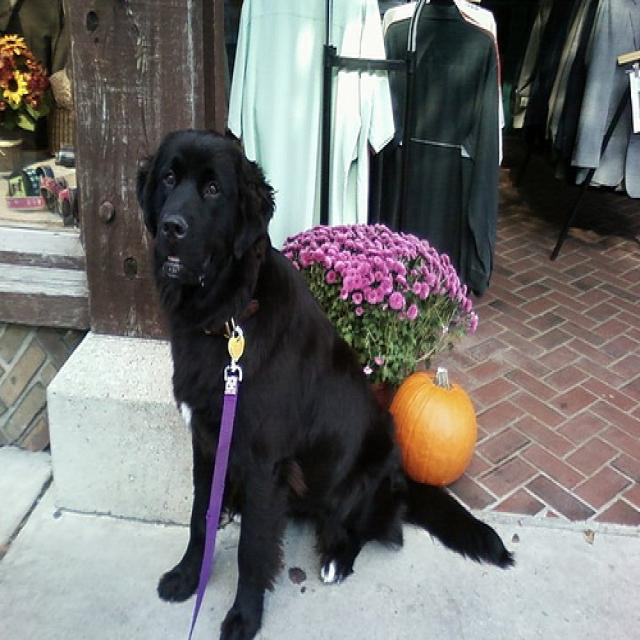dog-newfoundland: (125, 119, 521, 637)
